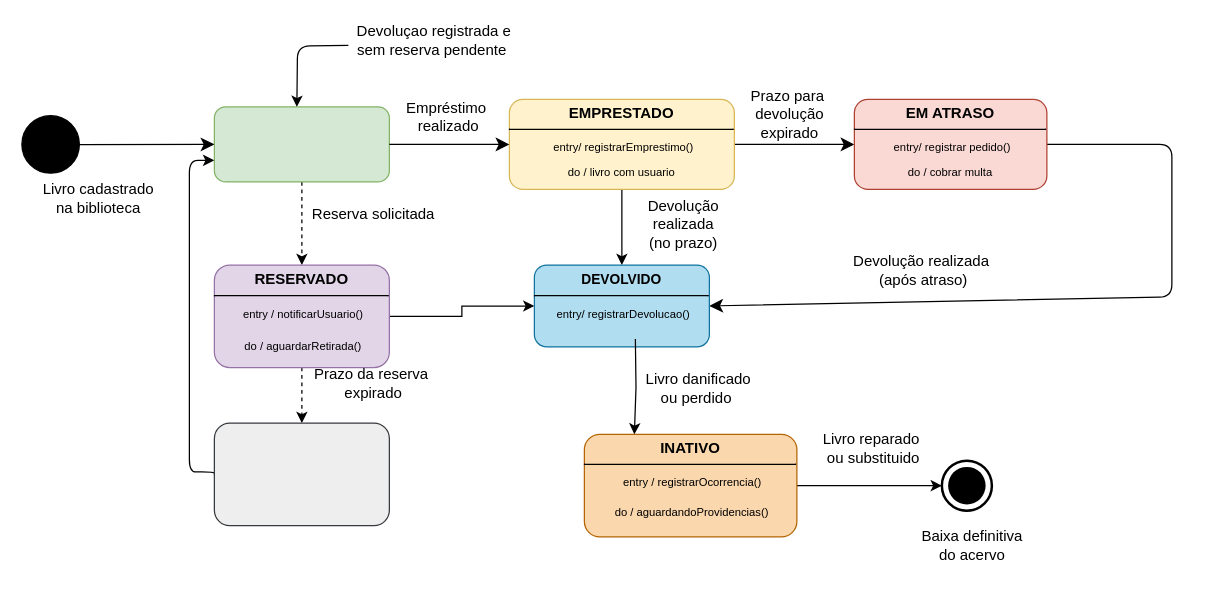
The diagram is 1206 pixels wide and 593 high, and some of its shapes have lost their labels. Here are the shapes that lost their labels. From the top down, the centre of each, then its label:
At point (301, 144): "DISPPONIVEL entry / definirDisponivel()".
At point (301, 474): "RESERVA CANCELADA entry/ liberarReserva()".
